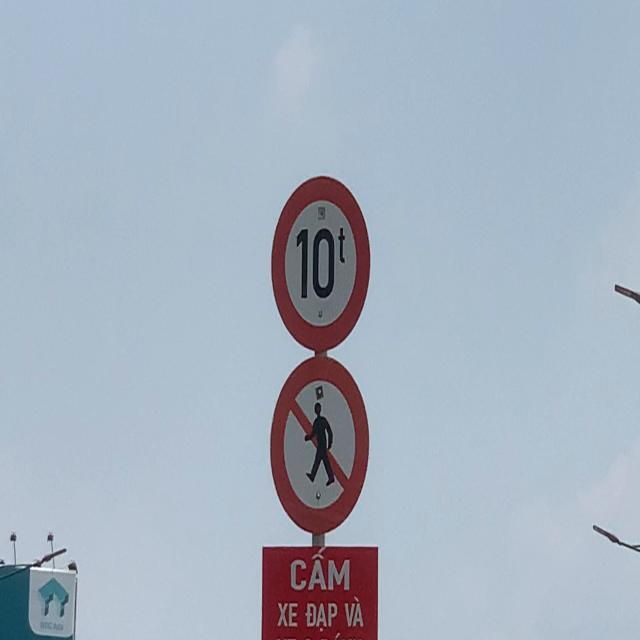Cam con lai: (270, 355, 370, 536)
Trong tai toi da: (270, 175, 370, 352)
